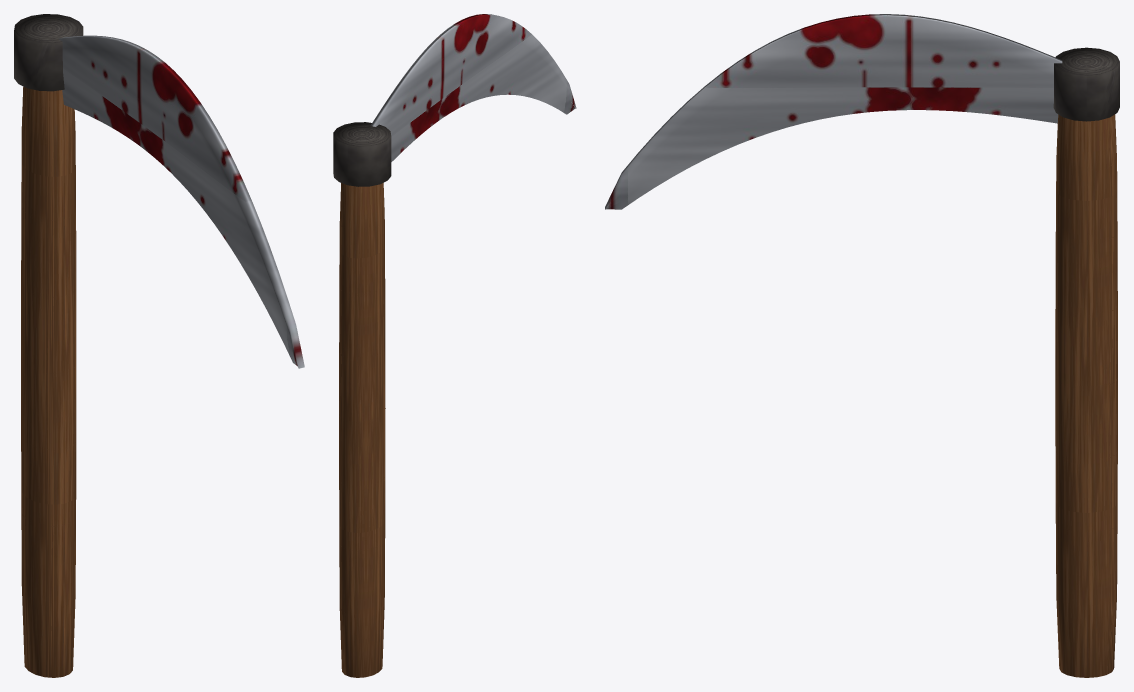
Rendered from 鎌_kama.glb.
3 views of the same model, side by side, from view 1: azimuth 30°, elevation 25°; view 2: azimuth 150°, elevation 25°; view 3: azimuth 270°, elevation 25° (orthographic). The views are drawn at different scales.
Visible parts, largest first — view 1: kama; view 2: kama; view 3: kama.
Boxes of the visible parts, x1,y1,x2,y2 form: kama: [14, 14, 304, 677]; kama: [333, 14, 576, 677]; kama: [605, 14, 1119, 677].
Size of the model in its own units: 0.029 by 0.3143 by 0.2245.
Materials: 3 (3 with a texture image).
